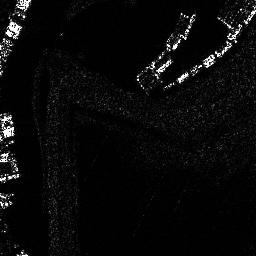ship: (155, 57, 175, 74)
